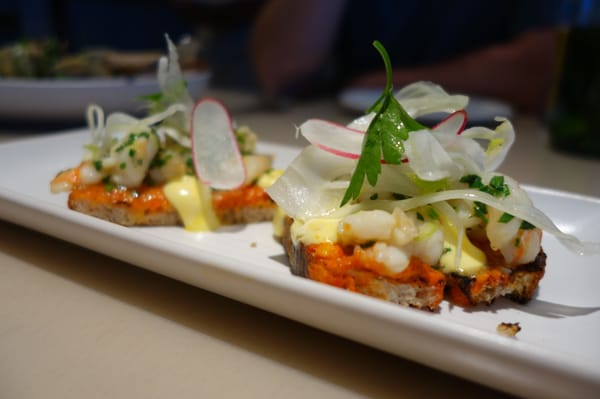soup: (262, 86, 570, 312)
